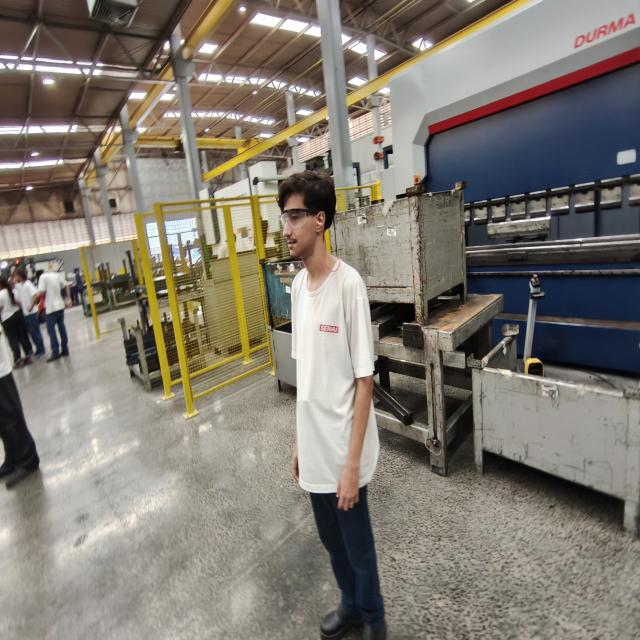oculos-epi: (281, 208, 317, 229)
